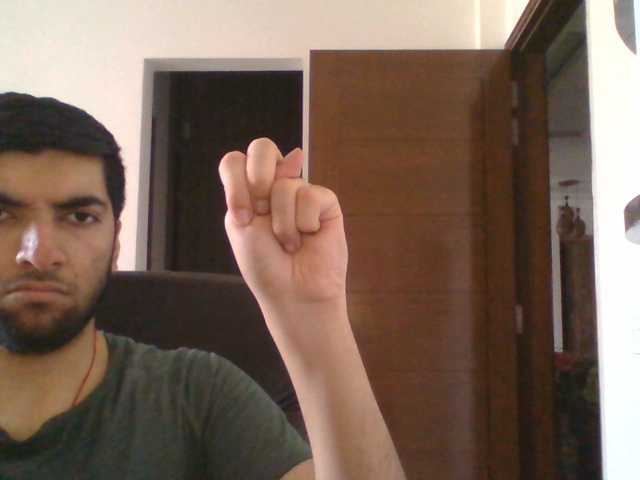LetterN: (217, 136, 349, 307)
